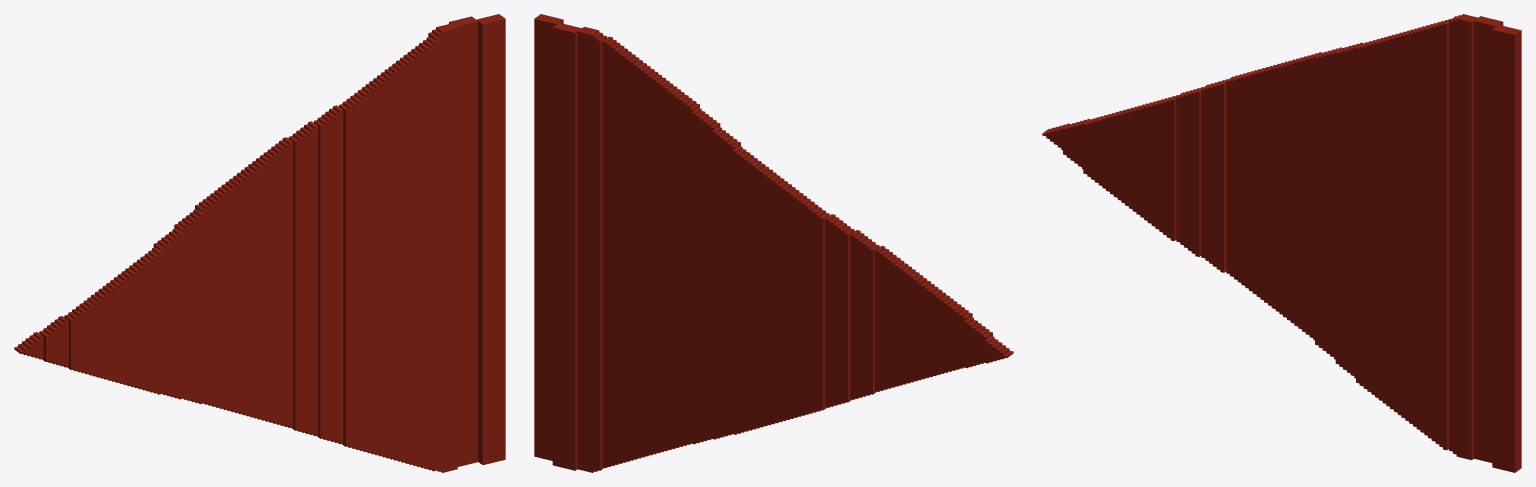
File: flag_full6-0.obj
The picture shows the model from 3 angles, left to right: view 1: azimuth 30°, elevation 25°; view 2: azimuth 150°, elevation 25°; view 3: azimuth 330°, elevation 25°; orthographic projection.
Size of the model in its own units: 25.2 by 22.1 by 1.2.
1 material, 1 textured.
